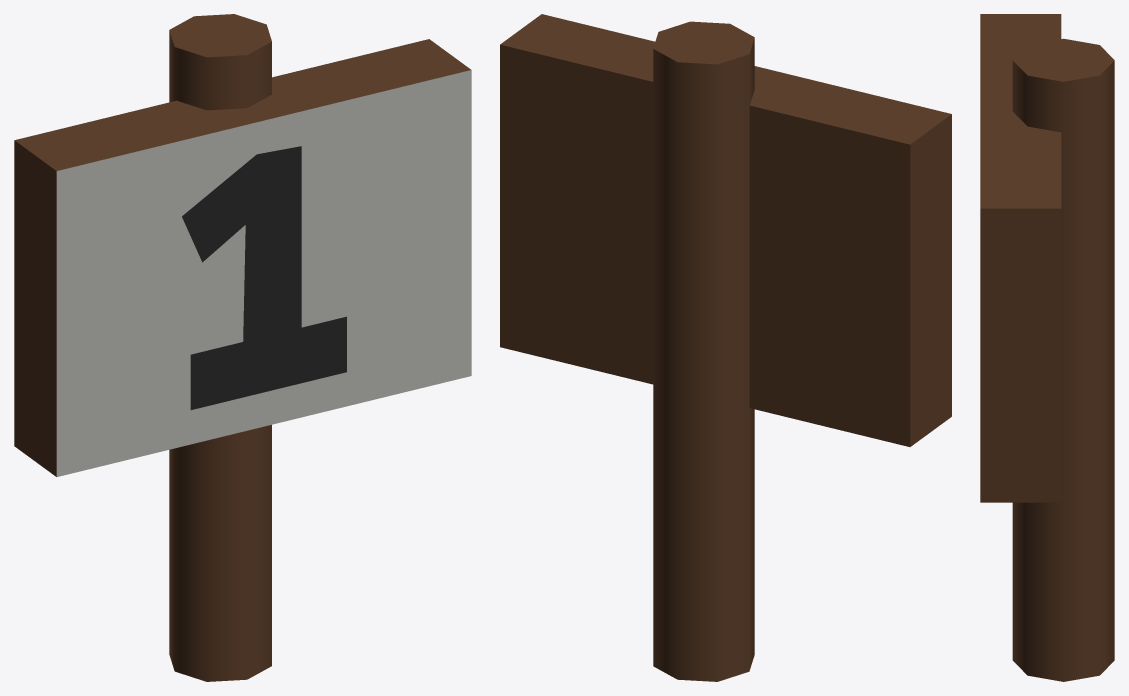
File: plate_1.fbx
3 renders of one model, left to right at view 1: azimuth 30°, elevation 25°; view 2: azimuth 150°, elevation 25°; view 3: azimuth 270°, elevation 25°, orthographic. The views are drawn at different scales.
Visible parts, largest first — view 1: plate_1; view 2: plate_1; view 3: plate_1.
Boxes of the visible parts, bbox=[...] form: plate_1: bbox=[14, 14, 471, 681]; plate_1: bbox=[500, 14, 951, 681]; plate_1: bbox=[980, 14, 1114, 681].
Bounding box in the file's own units: 118 × 169 × 34.43.
